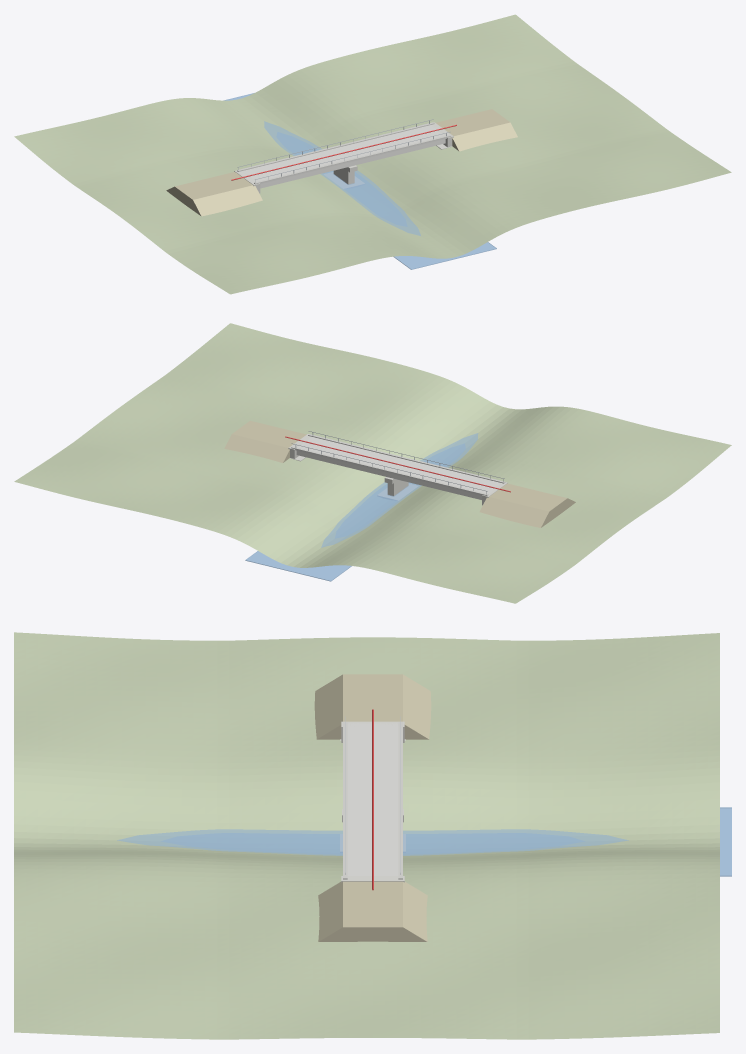
3 views of the same model, one above another, from view 1: azimuth 30°, elevation 25°; view 2: azimuth 150°, elevation 25°; view 3: azimuth 270°, elevation 25° (orthographic). The views are drawn at different scales.
Parts seen in each view (by area): view 1: 地形|現況地形 (参考), 地形|水面 (参考), 上部工|床版・舗装 (概形, 一体), 土工|取付部盛土 (起点側, 参考), 土工|取付部盛土 (終点側, 参考), 上部工|主桁 (概形, 矩形断面 ×5), 上部工|地覆 (概形, 右), 上部工|地覆 (概形, 左); view 2: 地形|現況地形 (参考), 地形|水面 (参考), 上部工|床版・舗装 (概形, 一体), 土工|取付部盛土 (起点側, 参考), 土工|取付部盛土 (終点側, 参考), 上部工|主桁 (概形, 矩形断面 ×5), 上部工|地覆 (概形, 左), 上部工|地覆 (概形, 右); view 3: 地形|現況地形 (参考), 地形|水面 (参考), 上部工|床版・舗装 (概形, 一体), 土工|取付部盛土 (終点側, 参考), 土工|取付部盛土 (起点側, 参考), 上部工|地覆 (概形, 左), 上部工|地覆 (概形, 右).
Part boxes in pixels (left/top/right/bottom): 地形|現況地形 (参考): left=14, top=14, right=731, bottom=294; 地形|水面 (参考): left=223, top=93, right=496, bottom=269; 上部工|床版・舗装 (概形, 一体): left=238, top=124, right=448, bottom=183; 土工|取付部盛土 (起点側, 参考): left=166, top=172, right=262, bottom=216; 土工|取付部盛土 (終点側, 参考): left=436, top=109, right=517, bottom=151; 上部工|主桁 (概形, 矩形断面 ×5): left=260, top=139, right=445, bottom=188; 上部工|地覆 (概形, 右): left=237, top=122, right=434, bottom=171; 上部工|地覆 (概形, 左): left=254, top=135, right=451, bottom=184; 地形|現況地形 (参考): left=14, top=323, right=731, bottom=603; 地形|水面 (参考): left=245, top=433, right=478, bottom=581; 上部工|床版・舗装 (概形, 一体): left=295, top=436, right=500, bottom=495; 土工|取付部盛土 (起点側, 参考): left=479, top=483, right=575, bottom=527; 土工|取付部盛土 (終点側, 参考): left=224, top=420, right=306, bottom=462; 上部工|主桁 (概形, 矩形断面 ×5): left=296, top=450, right=481, bottom=499; 上部工|地覆 (概形, 左): left=308, top=434, right=505, bottom=483; 上部工|地覆 (概形, 右): left=291, top=446, right=488, bottom=495; 地形|現況地形 (参考): left=14, top=632, right=719, bottom=1039; 地形|水面 (参考): left=117, top=807, right=731, bottom=876; 上部工|床版・舗装 (概形, 一体): left=347, top=723, right=398, bottom=875; 土工|取付部盛土 (終点側, 参考): left=318, top=881, right=427, bottom=941; 土工|取付部盛土 (起点側, 参考): left=314, top=674, right=431, bottom=739; 上部工|地覆 (概形, 左): left=343, top=722, right=347, bottom=879; 上部工|地覆 (概形, 右): left=398, top=722, right=402, bottom=879.
Bounding box in the file's own units: 158 × 25.9 × 120.
